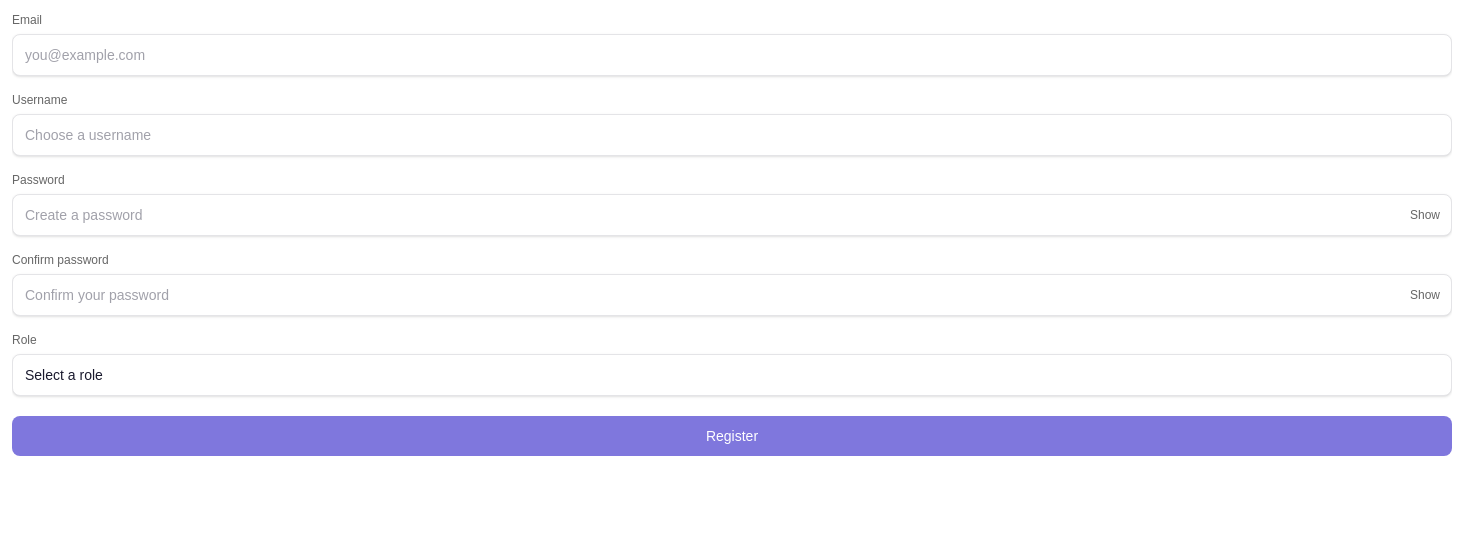
Scenario: RegisterForm › shows error when passwords do not match
In the field with placeholder "you@example.com": coordinates (732, 55) x1=12 y1=34 x2=1452 y2=76, type "user@test.com"
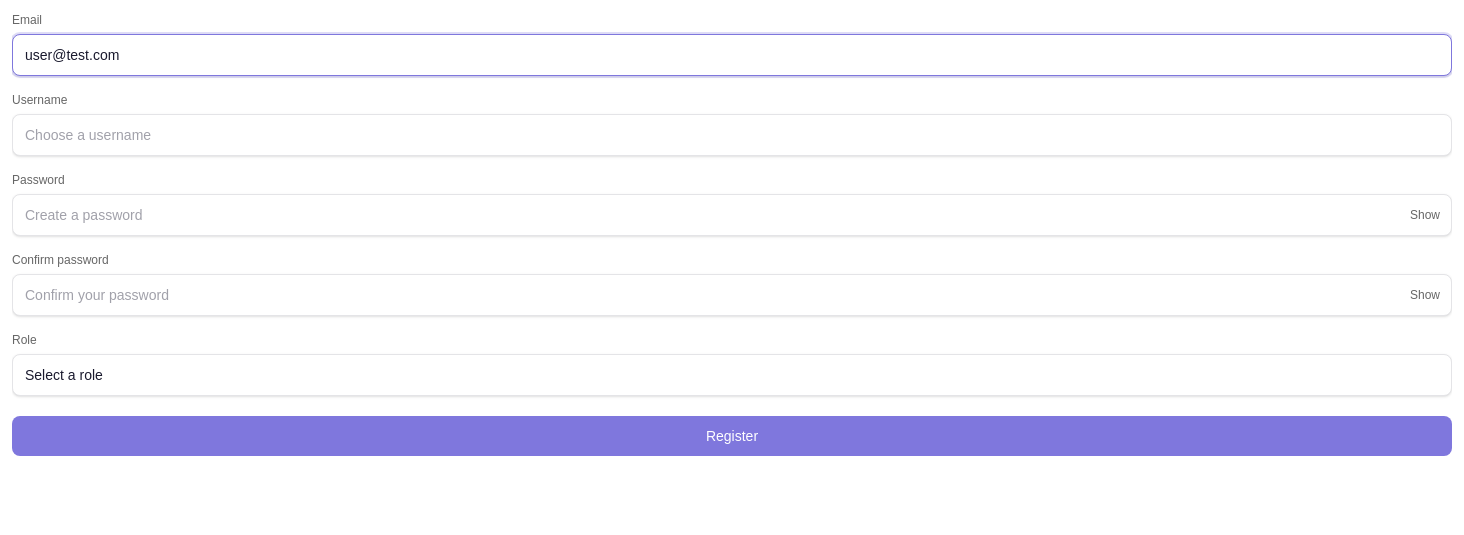
In the field with placeholder "Choose a username": coordinates (732, 135) x1=12 y1=114 x2=1452 y2=156, type "user1"
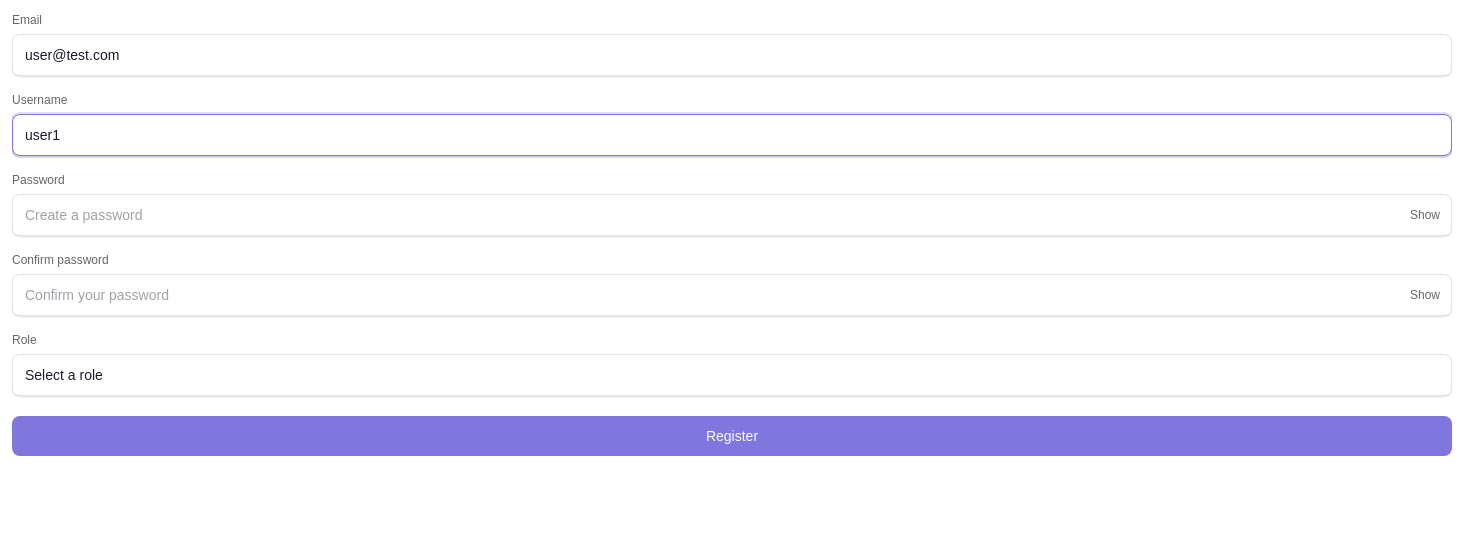
In the password field with placeholder "Create a password": coordinates (732, 215) x1=12 y1=194 x2=1452 y2=236, type "password123"
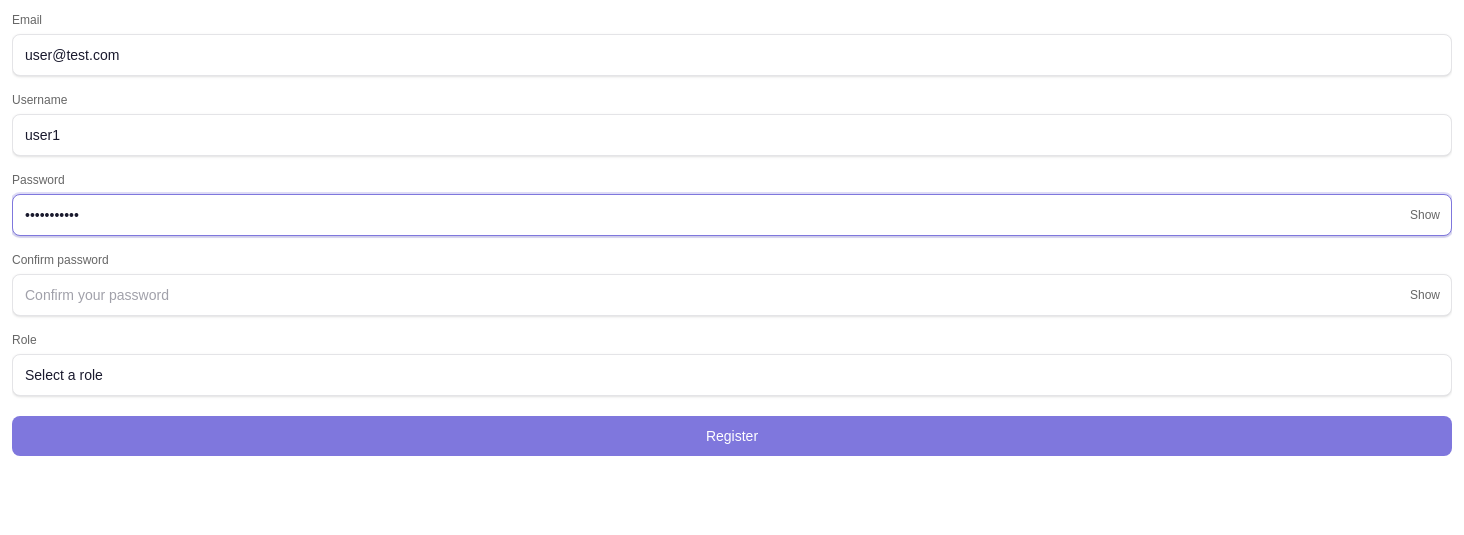
In the password field with placeholder "Confirm your password": coordinates (732, 295) x1=12 y1=274 x2=1452 y2=316, type "different456"
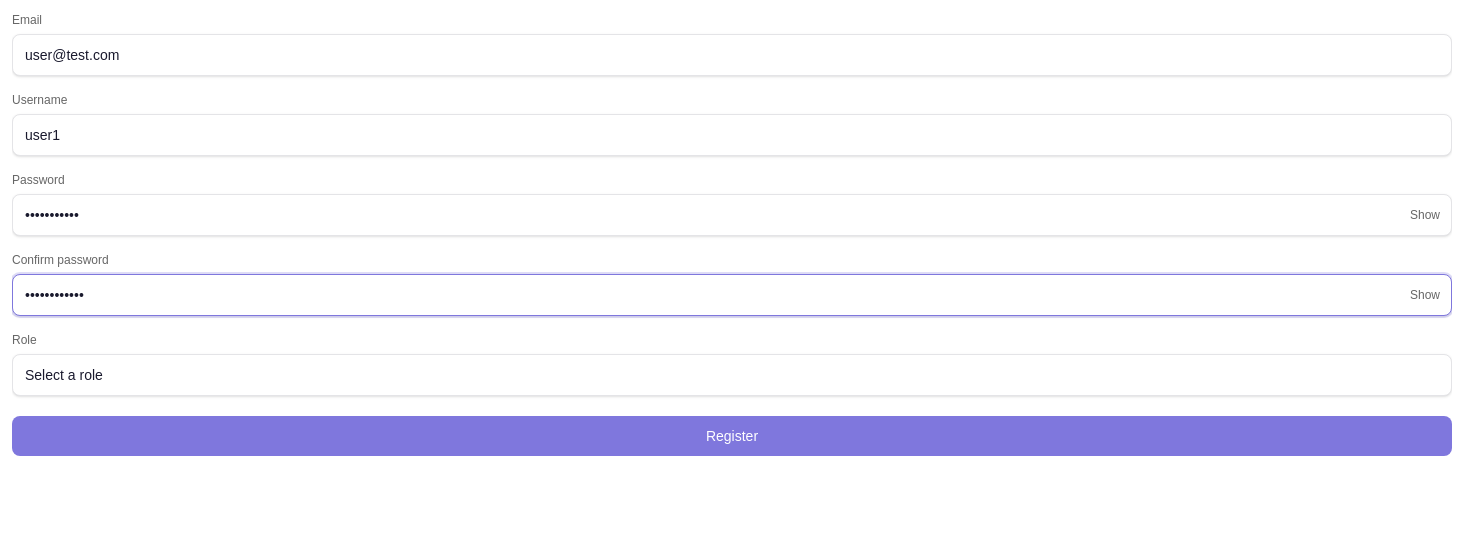
Select "user" in the dropdown: coordinates (732, 375) x1=12 y1=354 x2=1452 y2=396
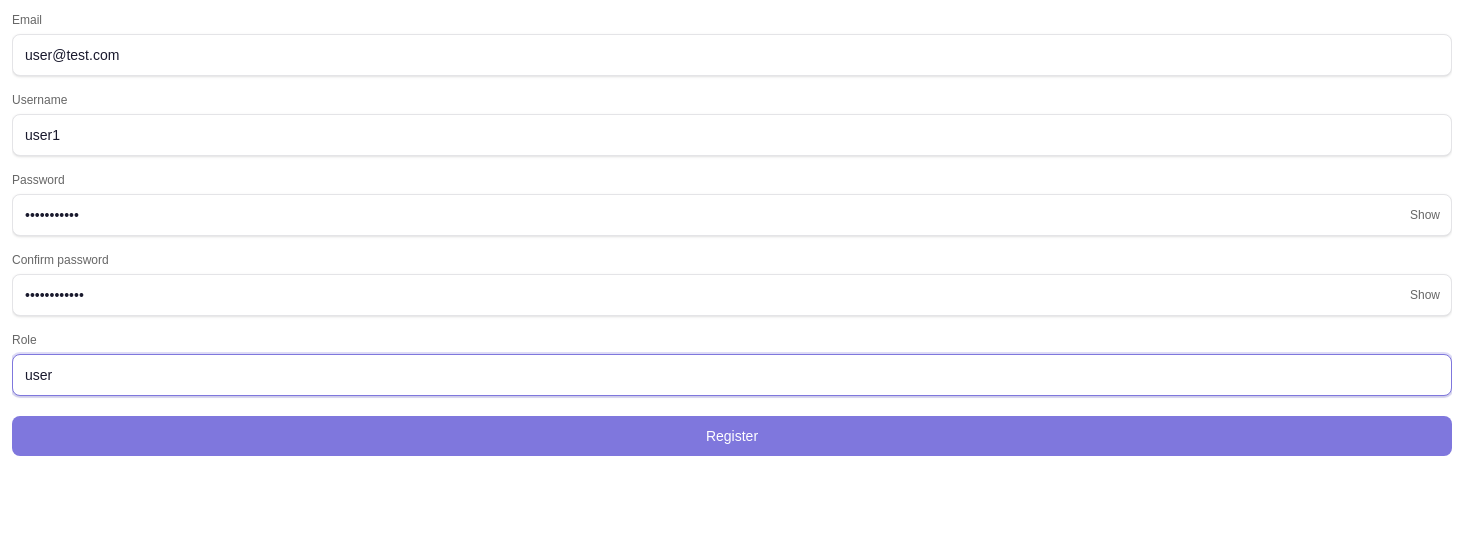
Click the button "Register": coordinates (732, 436) x1=12 y1=416 x2=1452 y2=456
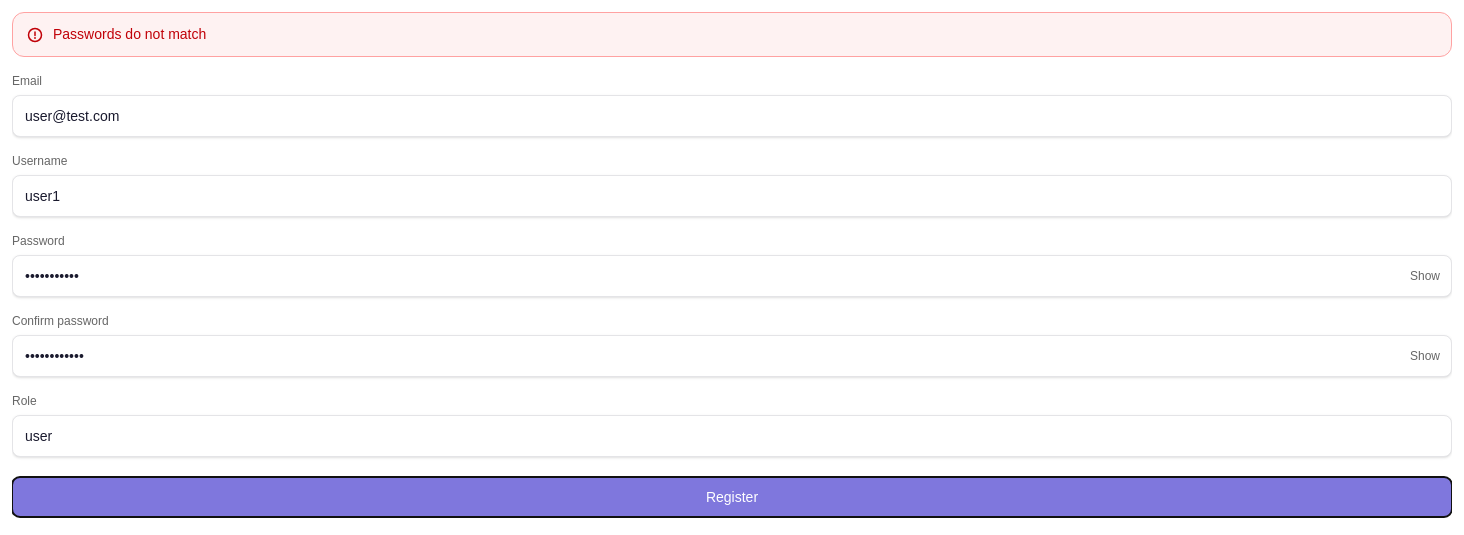
Now the text "Passwords do not match" is shown, box x1=53 y1=25 x2=206 y2=44
